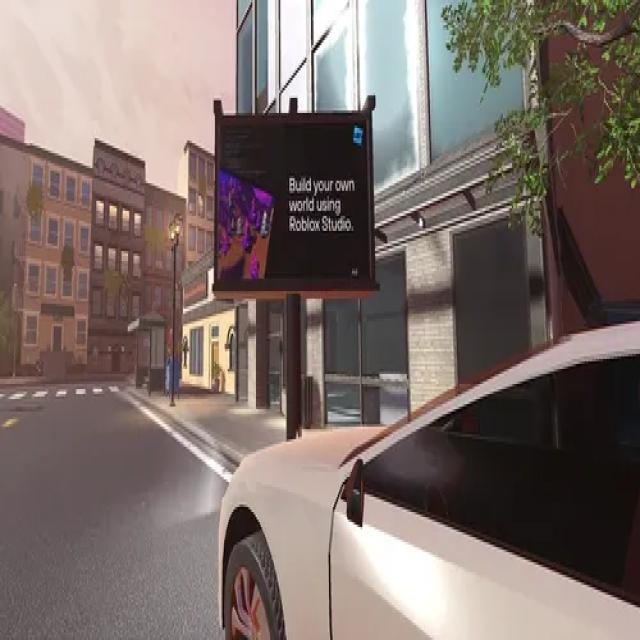billboard: (215, 112, 373, 286)
